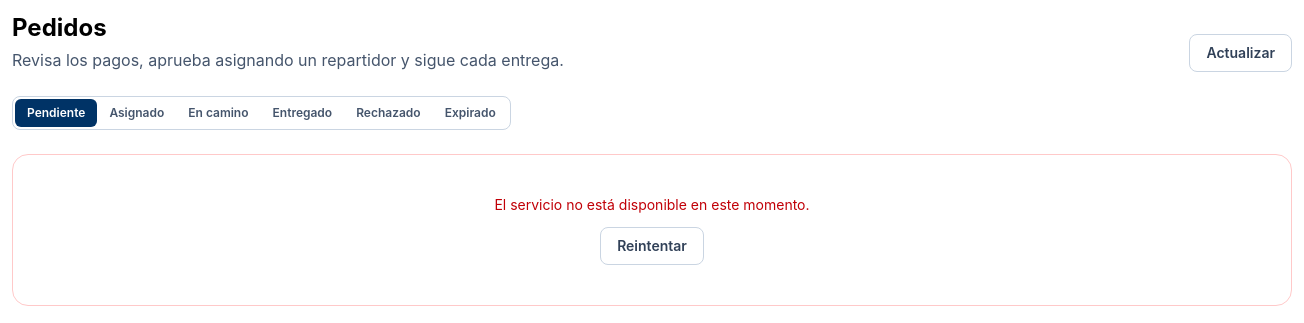
it: Pedidos: listado y filtros › si la API falla muestra el error y permite reintentar
Expected: the text "El servicio no está disponible en este momento." is shown, [494, 196, 810, 213]
Click the button "Reintentar" at point(652, 246), box [600, 227, 704, 265]
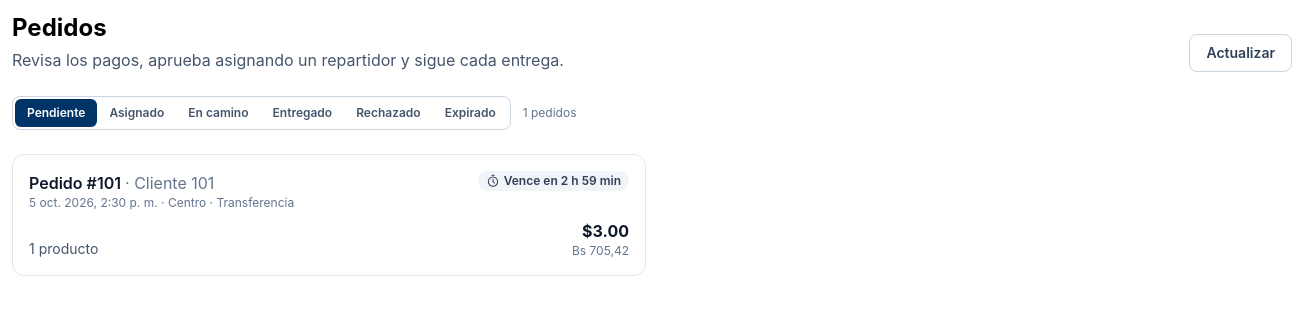
Now the text "Pedido #101" is shown, box [29, 173, 214, 193]
